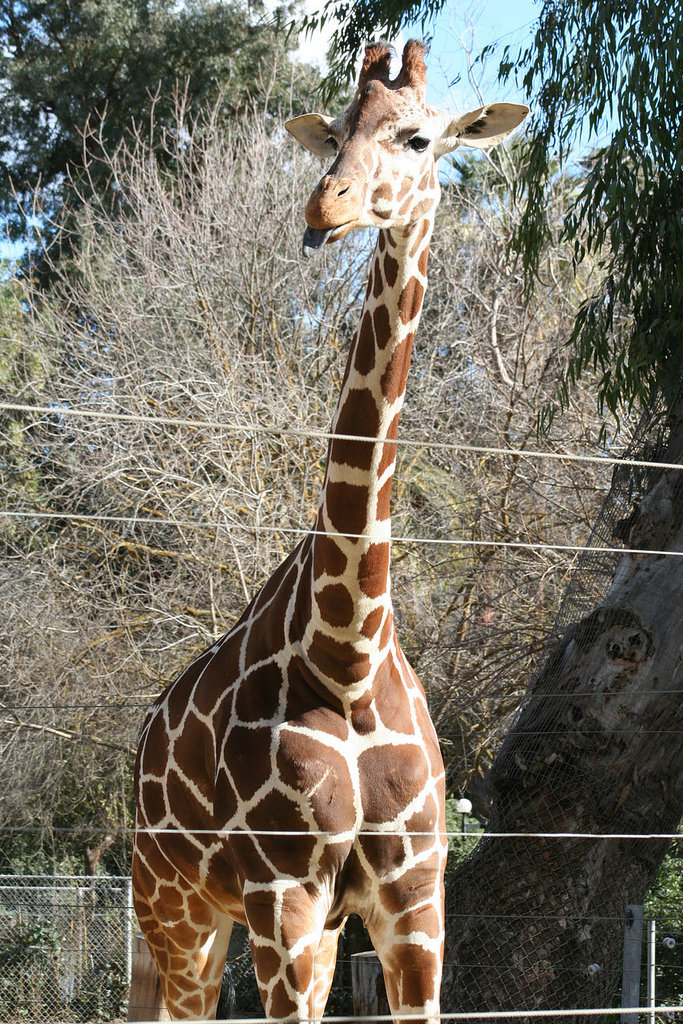giraffe: (145, 45, 542, 1002)
